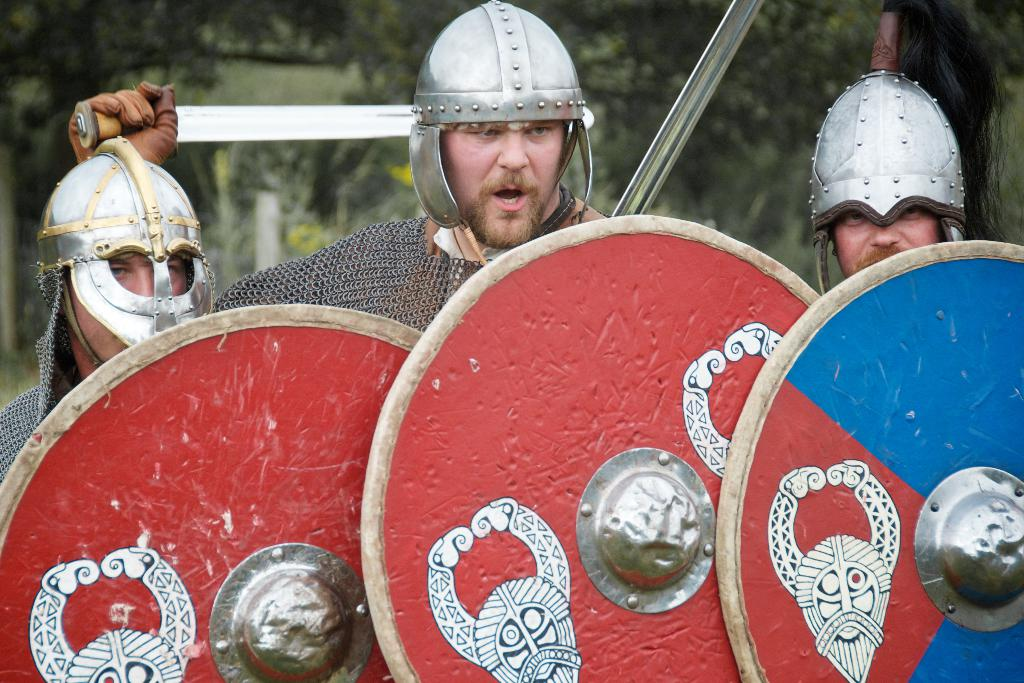Person: (68, 0, 613, 332), (0, 135, 216, 489), (808, 0, 1024, 295)
